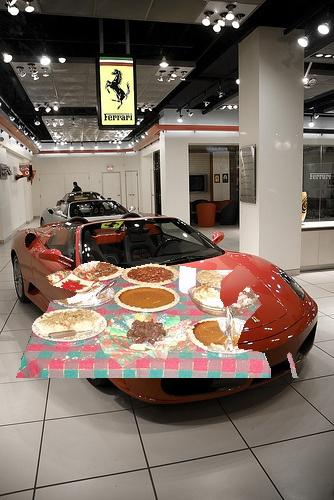tampered: (17, 262, 299, 378)
